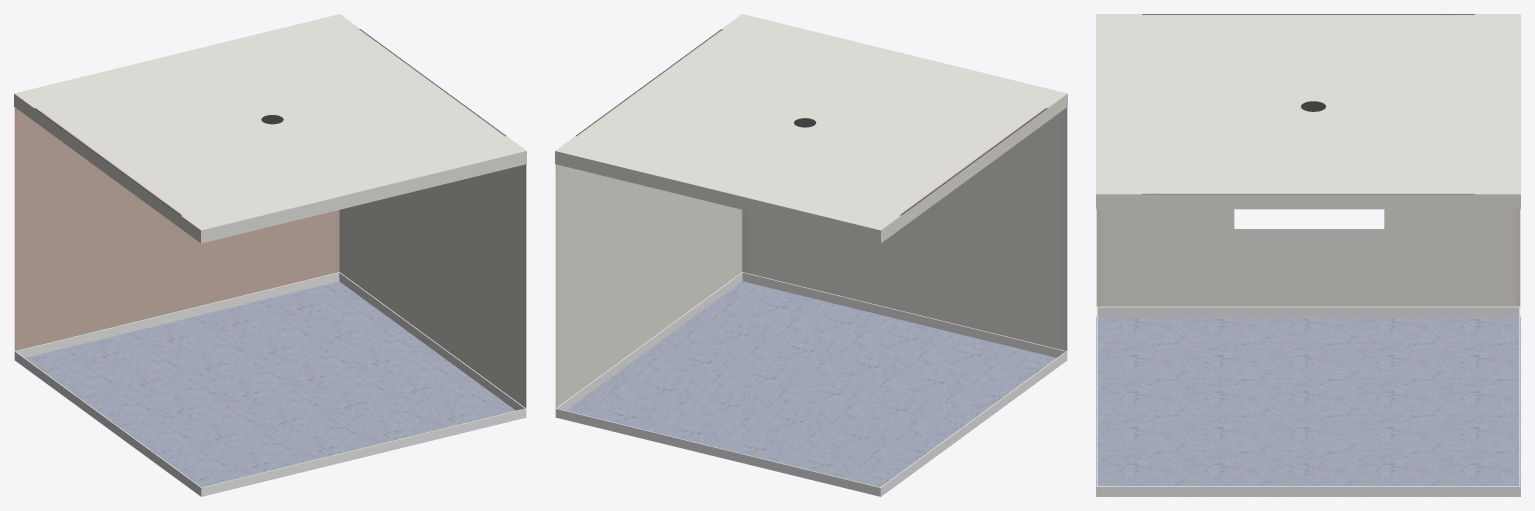
The model's file is Room_Variants_latest1.glb.
The picture shows the model from 3 angles, left to right: view 1: azimuth 30°, elevation 25°; view 2: azimuth 150°, elevation 25°; view 3: azimuth 270°, elevation 25°; orthographic projection. The views are drawn at different scales.
Visible parts, largest first — view 1: Cealing, Floor, Front_Wall, Right_Wall, Skrit; view 2: Cealing, Floor, Back_Wall, Right_Wall, Skrit; view 3: Cealing, Floor, Left_Wall, Skrit.
Part boxes in pixels (bbox=[...]): Cealing: bbox=[14, 14, 526, 243]; Floor: bbox=[14, 281, 526, 496]; Front_Wall: bbox=[14, 107, 339, 350]; Right_Wall: bbox=[339, 164, 526, 408]; Skrit: bbox=[14, 272, 526, 496]; Cealing: bbox=[555, 14, 1067, 243]; Floor: bbox=[555, 281, 1067, 496]; Back_Wall: bbox=[742, 107, 1067, 350]; Right_Wall: bbox=[555, 164, 742, 408]; Skrit: bbox=[555, 272, 1067, 496]; Cealing: bbox=[1096, 14, 1520, 209]; Floor: bbox=[1096, 316, 1520, 496]; Left_Wall: bbox=[1096, 209, 1520, 306]; Skrit: bbox=[1096, 306, 1520, 496].
Bounding box in the file's own units: 3.9 × 3.05 × 3.88.
10 materials, 5 textured.
